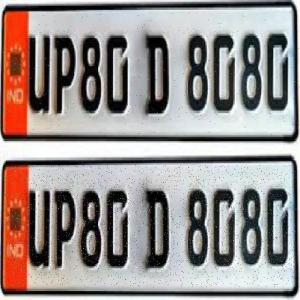Plate: (3, 9, 299, 135), (4, 166, 296, 288)
